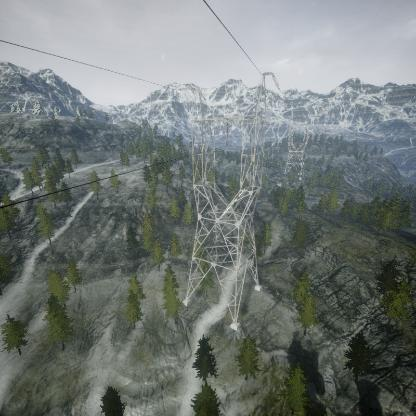tower: (180, 69, 267, 333), (281, 124, 312, 183)
